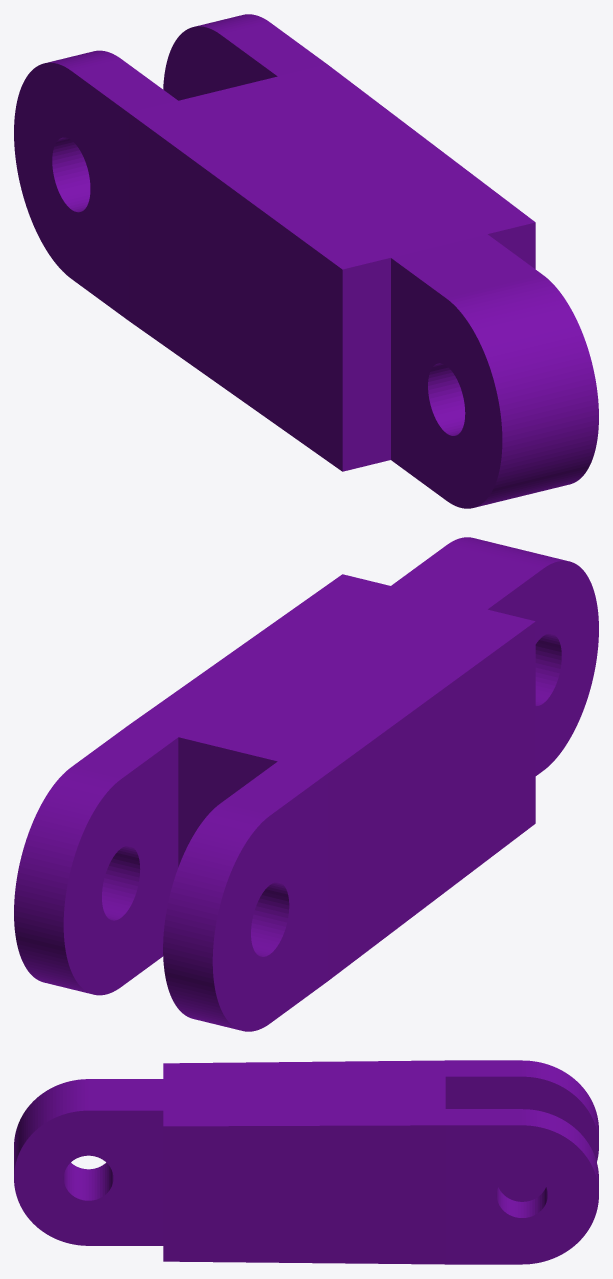
3 renders of one model, top to bottom at view 1: azimuth 30°, elevation 25°; view 2: azimuth 150°, elevation 25°; view 3: azimuth 270°, elevation 25°, orthographic. The views are drawn at different scales.
Visible parts, largest first — view 1: node; view 2: node; view 3: node.
Boxes of the visible parts, box(x1,y1,x2,y2) form: node: box(14, 14, 598, 508); node: box(14, 537, 598, 1031); node: box(14, 1060, 598, 1264).
Bounding box in the file's own units: 0.0507 × 0.0507 × 0.1931.
